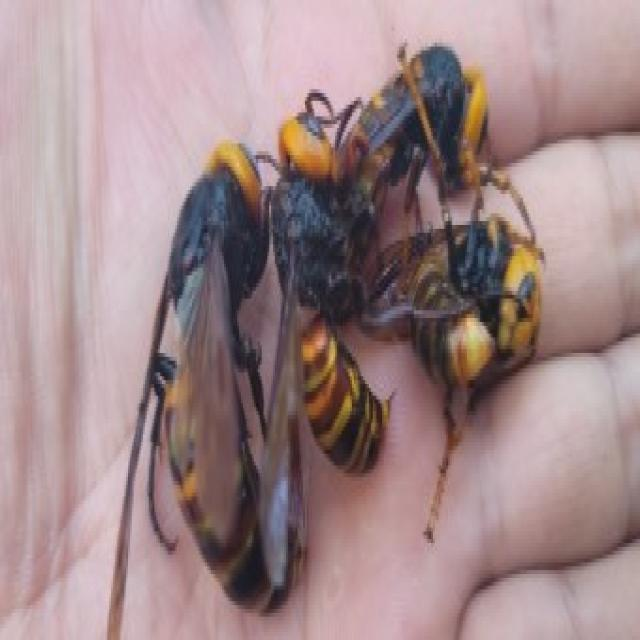Wasp: (107, 129, 298, 610), (264, 87, 376, 477), (389, 200, 562, 420)
